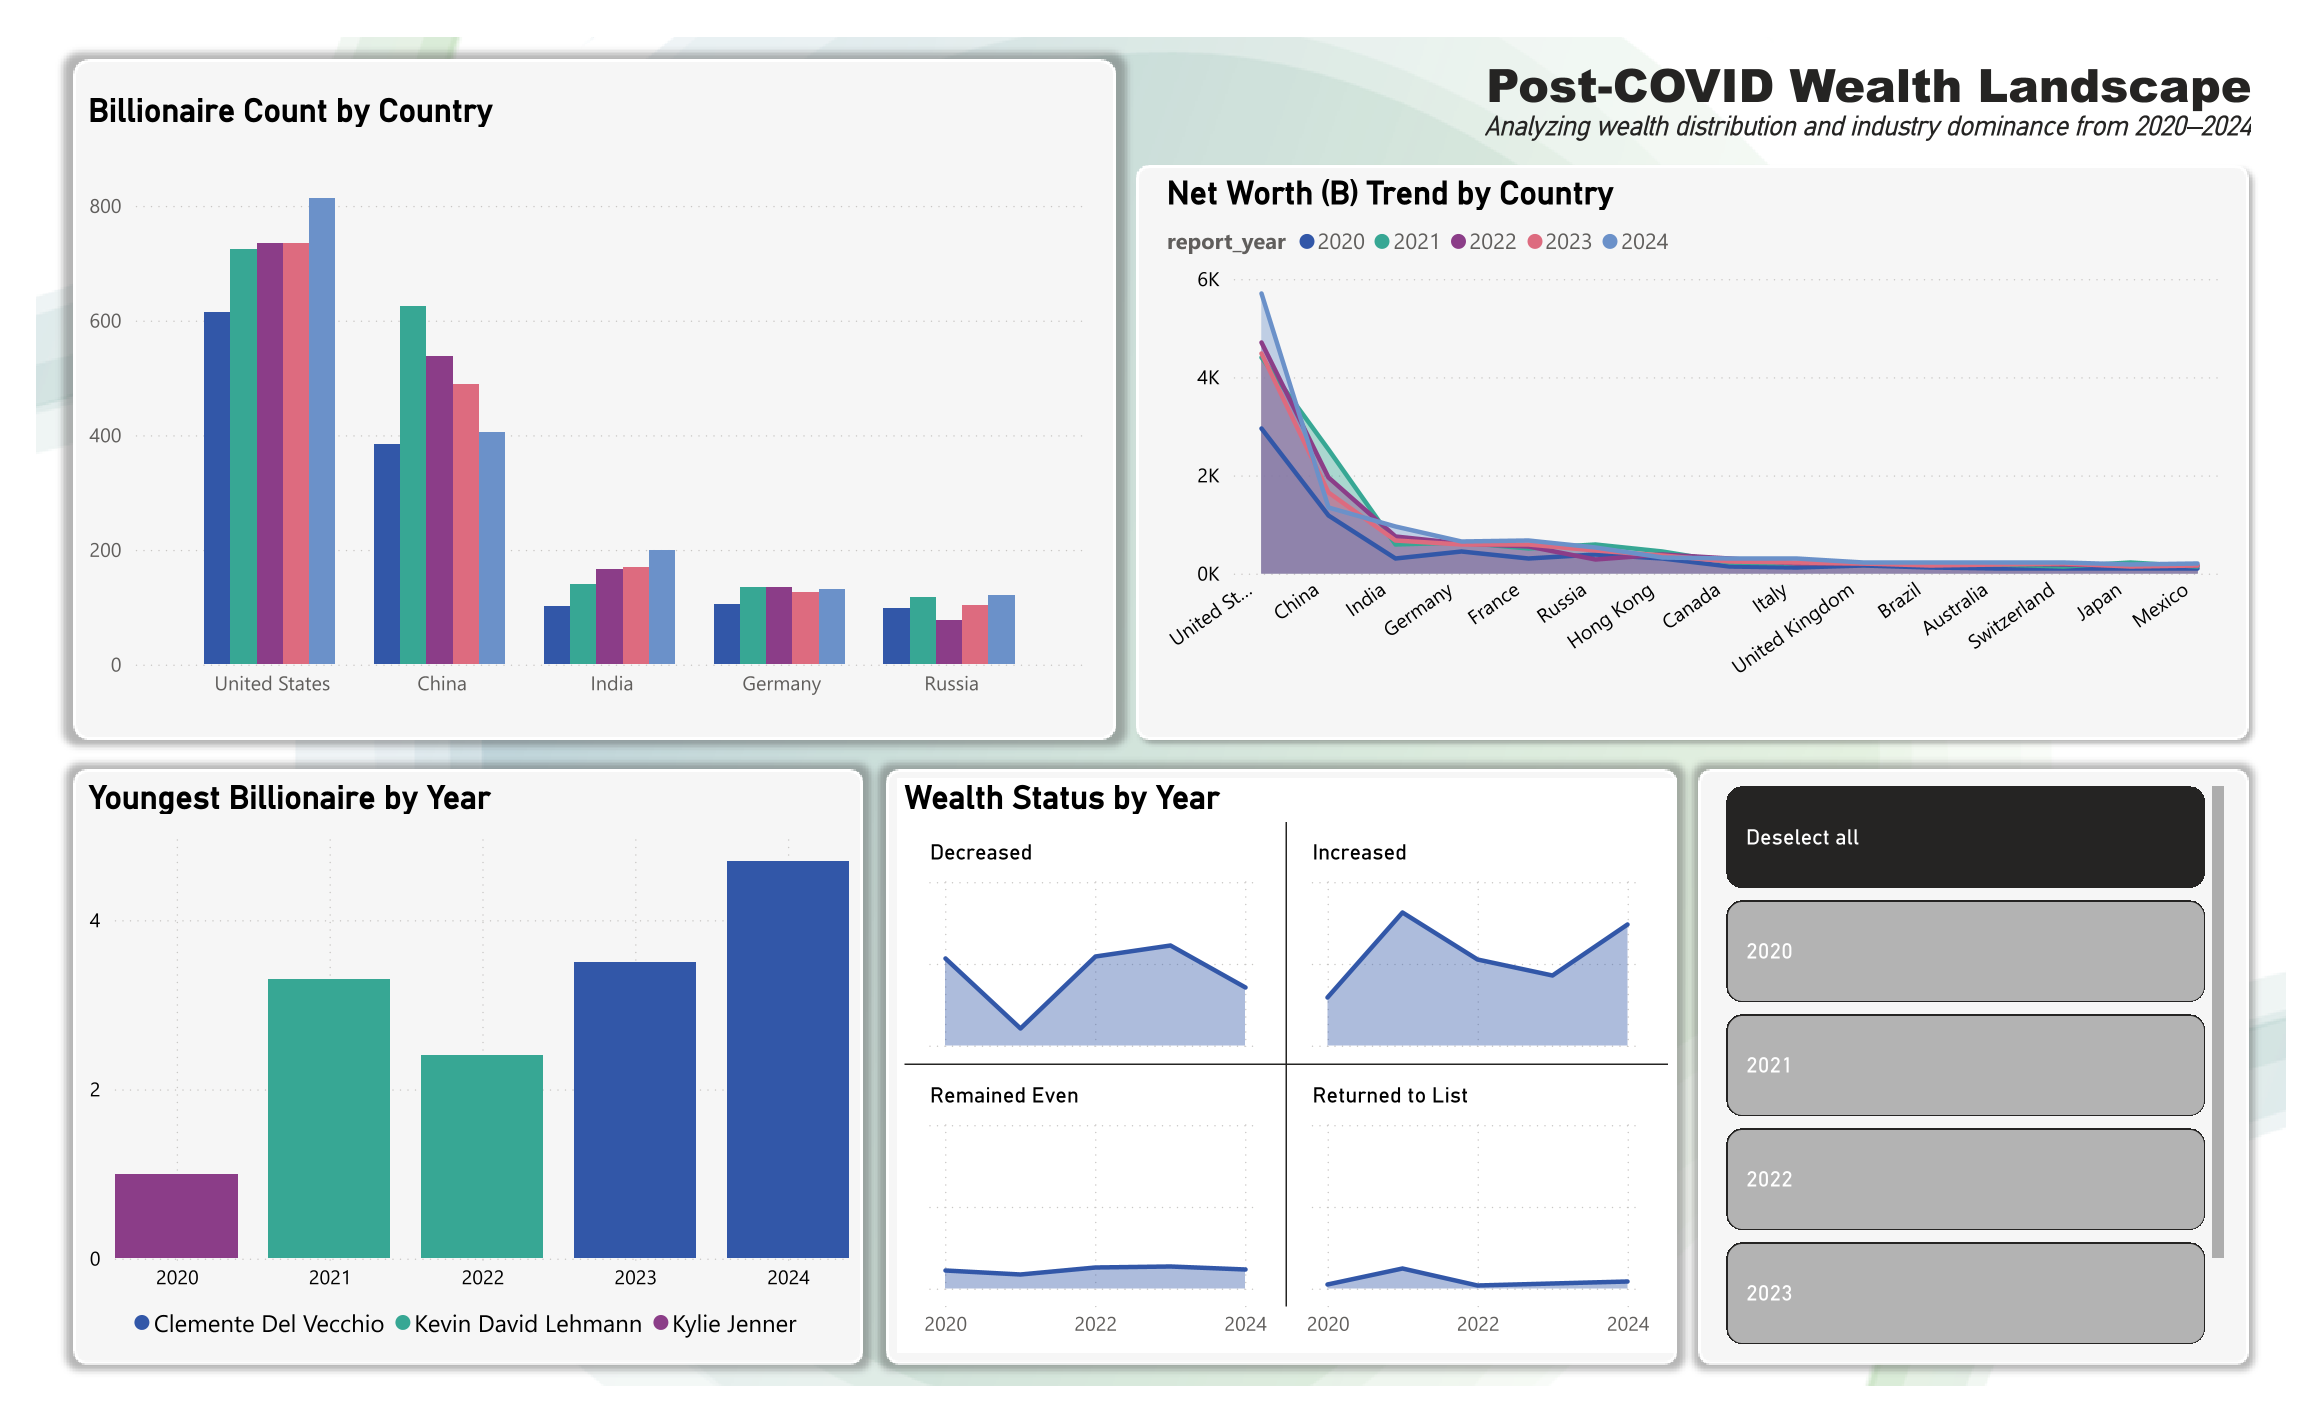

The page's visual inventory and layout, read from the dashboard file:
{"tool":"powerbi","page":{"name":"demographics","canvas":[1500,900],"ordinal":1},"visuals":[{"type":"shape","title":"Top billionaires in SA","box":[768.8,0,707.6,61.9],"z":0,"group":"g1"},{"type":"clusteredColumnChart","title":"Billionaire Count by Country","fields":{"Category":["billionaire_count_by_country.country_of_citizenship"],"Y":["billionaire_count_by_country.billionaire_count"],"Series":["billionaire_count_by_country.report_year"]},"box":[30.1,36.8,675.8,413.2],"z":0},{"type":"shape","title":"Top billionaires in SA","box":[768.6,36.8,707.6,45.2],"z":1000,"group":"g1"},{"type":"columnChart","title":"Youngest Billionaire by Year ","fields":{"Category":["forbes_youngest_billionaire.report_year"],"Series":["forbes_youngest_billionaire.full_name"],"Y":["forbes_youngest_billionaire.net_worth"]},"box":[30,495,517,383],"z":1000},{"type":"stackedAreaChart","title":"Wealth Status by Year","fields":{"Category":["forbes_2020_2024.report_year"],"Y":["forbes_2020_2024.wealth_status"],"Rows":["forbes_2020_2024.wealth_status"]},"box":[573.8,495.2,520.3,383.1],"z":2000},{"type":"areaChart","title":"Net Worth (B) Trend by Country","fields":{"Category":["trend_net_worth_by_country.country_of_citizenship"],"Series":["trend_net_worth_by_country.report_year"],"Y":["trend_net_worth_by_country.total_net_worth"]},"box":[749.4,92,714.3,358],"z":3000},{"type":"advancedSlicerVisual","fields":{"Values":["forbes_dim_date.report_year"]},"box":[1122.5,495.2,341.3,383.1],"z":4000},{"type":"group","id":"g1","title":"Group 1","box":[768.6,0,707.8,82],"z":5000}]}

Visuals, with their boxes on the page's 1500x900 design canvas (x1, y1, x2, y2). These are canvas units, not pixel positions in the 2322x1422 screenshot, which may show the page scaled, cropped or inside an application window:
"Top billionaires in SA" shape: (left=769, top=0, right=1476, bottom=62)
"Billionaire Count by Country" clusteredColumnChart: (left=30, top=37, right=706, bottom=450)
"Top billionaires in SA" shape: (left=769, top=37, right=1476, bottom=82)
"Youngest Billionaire by Year " columnChart: (left=30, top=495, right=547, bottom=878)
"Wealth Status by Year" stackedAreaChart: (left=574, top=495, right=1094, bottom=878)
"Net Worth (B) Trend by Country" areaChart: (left=749, top=92, right=1464, bottom=450)
advancedSlicerVisual - forbes_dim_date.report_year: (left=1122, top=495, right=1464, bottom=878)
"Group 1" group: (left=769, top=0, right=1476, bottom=82)
